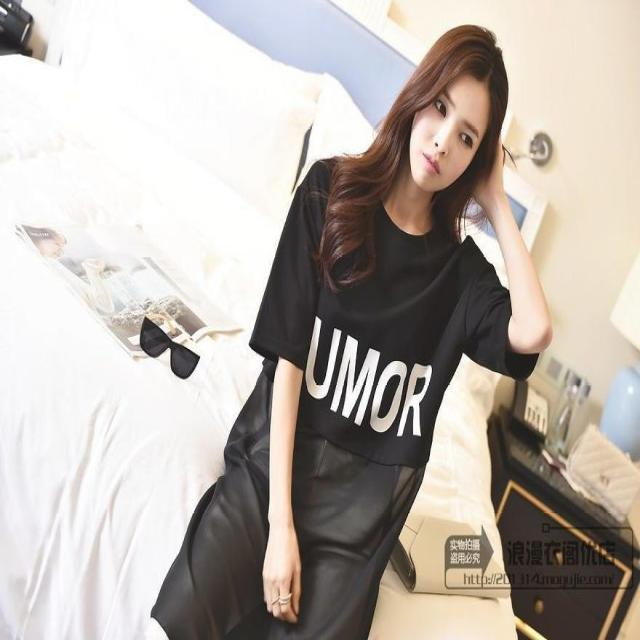short-sleeve-top: (282, 100, 515, 587)
